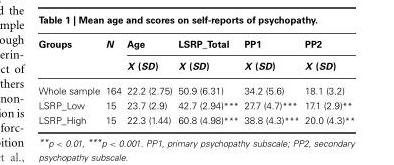table: (37, 37, 354, 125)
table column: (174, 37, 240, 125), (37, 37, 102, 125), (240, 37, 301, 125), (301, 37, 354, 125), (123, 37, 174, 125), (102, 37, 123, 125)
table column header: (37, 37, 354, 77)
table row: (37, 54, 354, 77), (37, 77, 354, 97), (37, 37, 354, 54), (37, 97, 354, 112), (37, 112, 354, 125)
table spanning cell: (174, 37, 240, 77), (37, 37, 102, 77), (240, 37, 301, 77), (301, 37, 354, 77), (123, 37, 174, 77), (102, 37, 123, 77)
